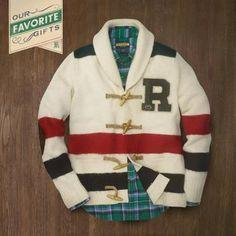S_cardigan sweater: (32, 18, 211, 217)
